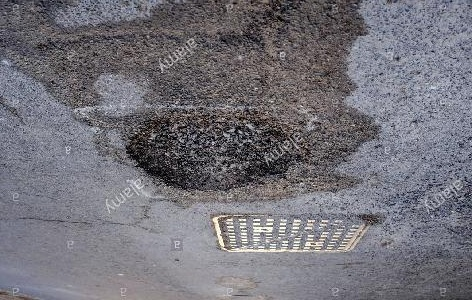pothole: (125, 110, 315, 193)
